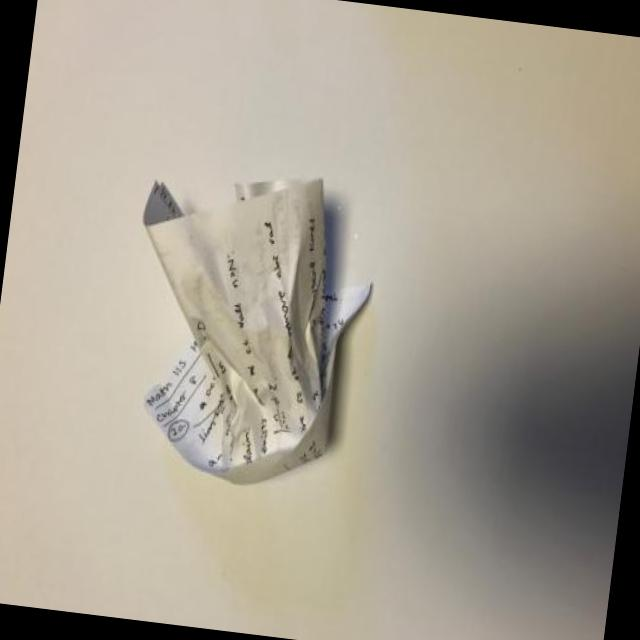paper: (82, 162, 381, 521)
